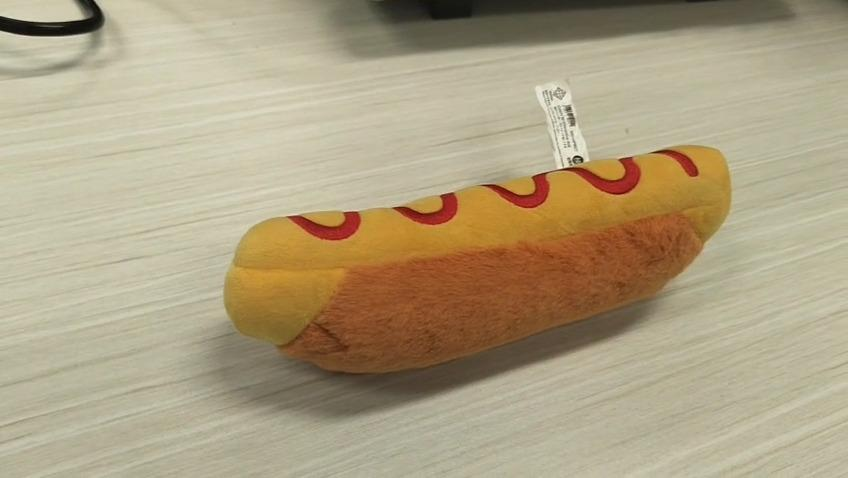hotdog: (222, 142, 732, 375)
